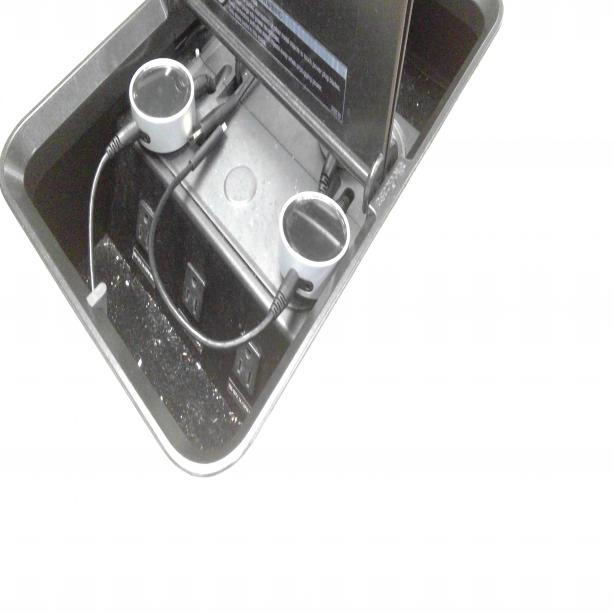typeb: (237, 336, 261, 387), (181, 274, 207, 316), (135, 206, 152, 249)
